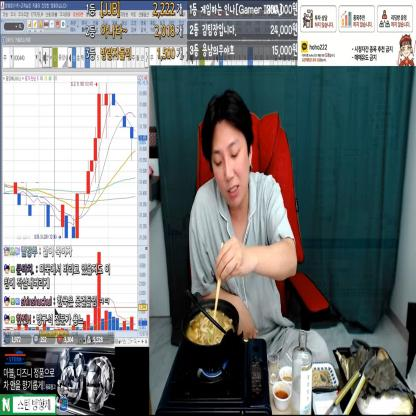streamer: (189, 89, 330, 363)
